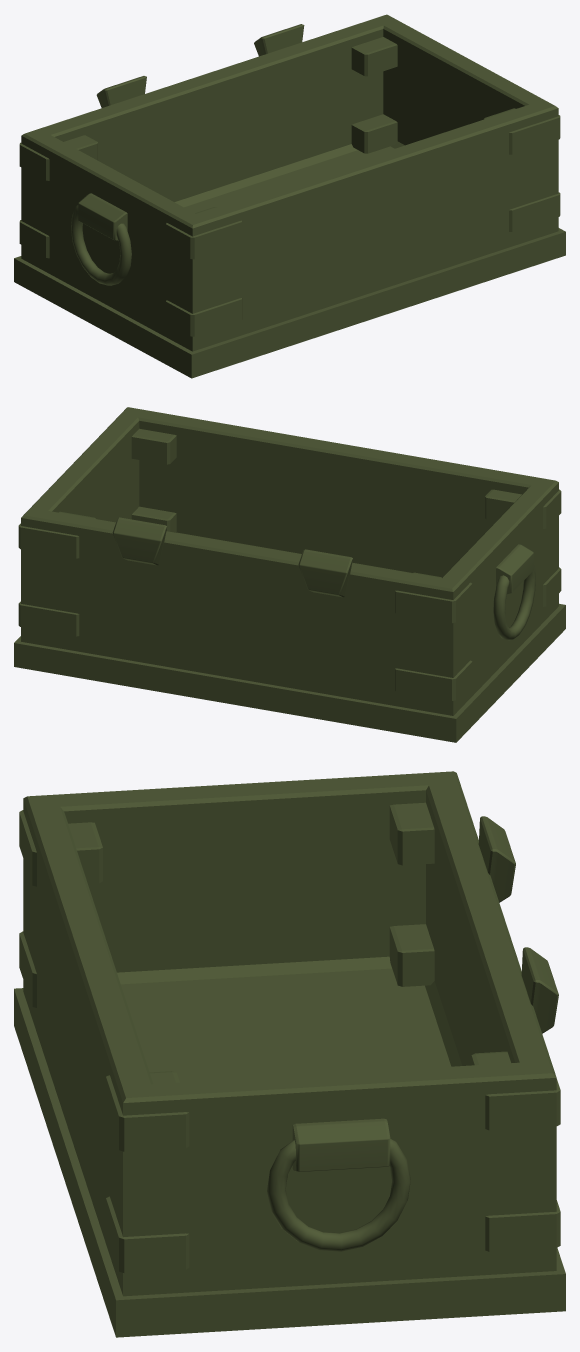
The model's file is caixa_3_corpo.glb.
3 renders of one model, top to bottom at view 1: azimuth 30°, elevation 25°; view 2: azimuth 150°, elevation 25°; view 3: azimuth 270°, elevation 25°, orthographic. The views are drawn at different scales.
Visible parts, largest first — view 1: SM_WeaponCrate_03_B; view 2: SM_WeaponCrate_03_B; view 3: SM_WeaponCrate_03_B.
Part boxes in pixels (left/top/right/bottom): SM_WeaponCrate_03_B: left=14, top=14, right=565, bottom=378; SM_WeaponCrate_03_B: left=14, top=407, right=565, bottom=742; SM_WeaponCrate_03_B: left=14, top=771, right=565, bottom=1337.
Bounding box in the file's own units: 1.02 × 0.3674 × 0.7024.
